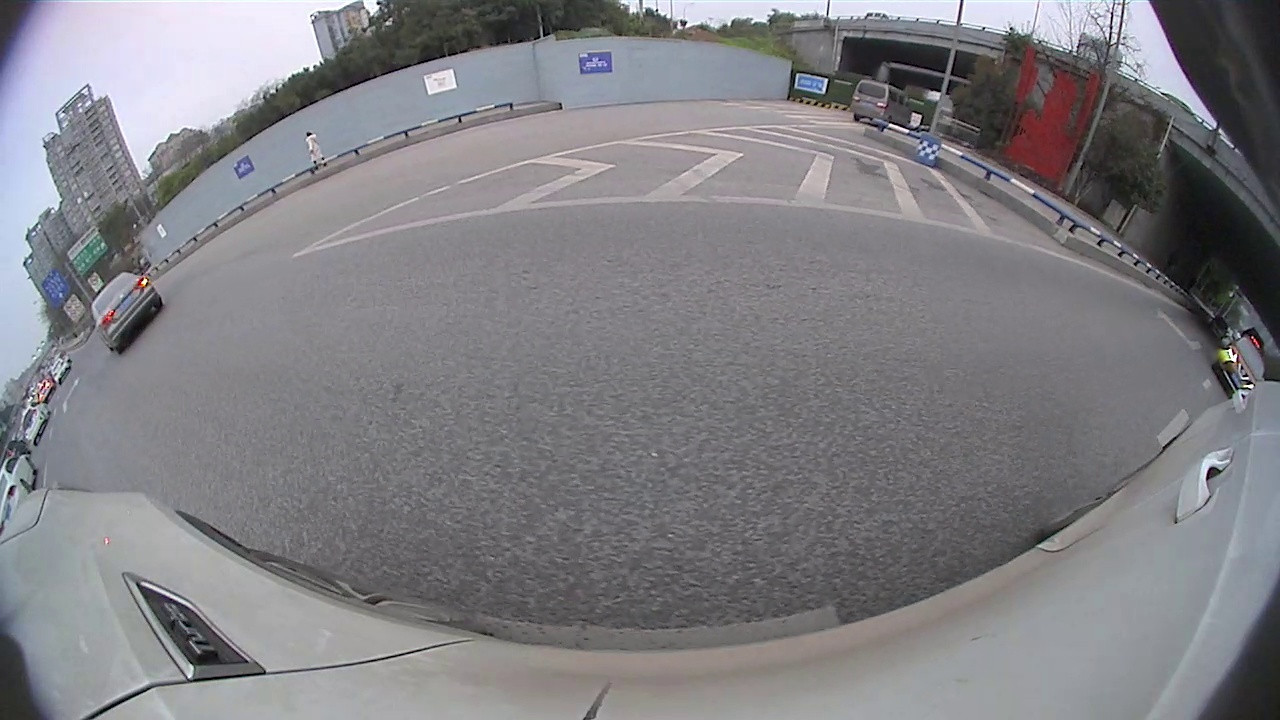car: (90, 270, 163, 355), (1211, 336, 1265, 401), (849, 77, 911, 130), (1, 453, 39, 533), (19, 400, 53, 446), (49, 355, 72, 386)
person: (305, 131, 317, 163)
rear: (151, 297, 167, 314), (113, 341, 125, 356)
